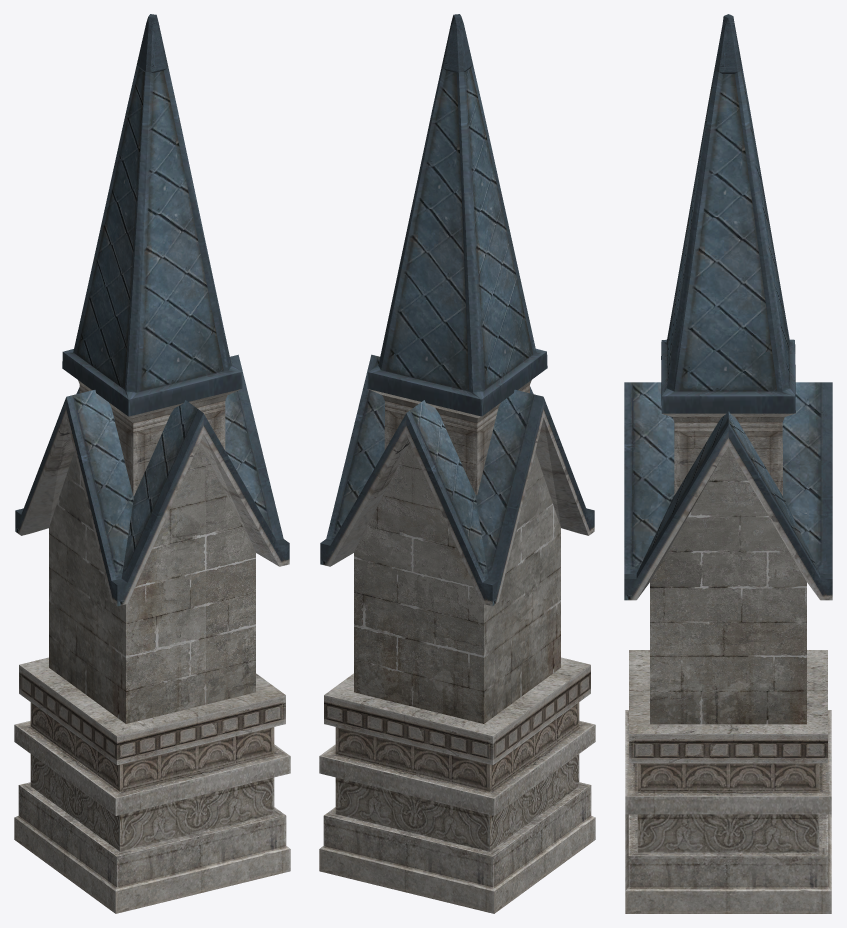
Rendered from bg_lut_lucastle_floorpillar01_sm_ksh.FBX.
3 renders of one model, left to right at view 1: azimuth 30°, elevation 25°; view 2: azimuth 150°, elevation 25°; view 3: azimuth 270°, elevation 25°, orthographic.
Visible parts, largest first — view 1: bg_lut_lucastle_floorpillar01_sm_ksh; view 2: bg_lut_lucastle_floorpillar01_sm_ksh; view 3: bg_lut_lucastle_floorpillar01_sm_ksh.
Part boxes in pixels (left/top/right/bottom): bg_lut_lucastle_floorpillar01_sm_ksh: left=14, top=14, right=290, bottom=913; bg_lut_lucastle_floorpillar01_sm_ksh: left=319, top=14, right=595, bottom=913; bg_lut_lucastle_floorpillar01_sm_ksh: left=624, top=14, right=832, bottom=913.
Bounding box in the file's own units: 48.94 × 225 × 49.57.
